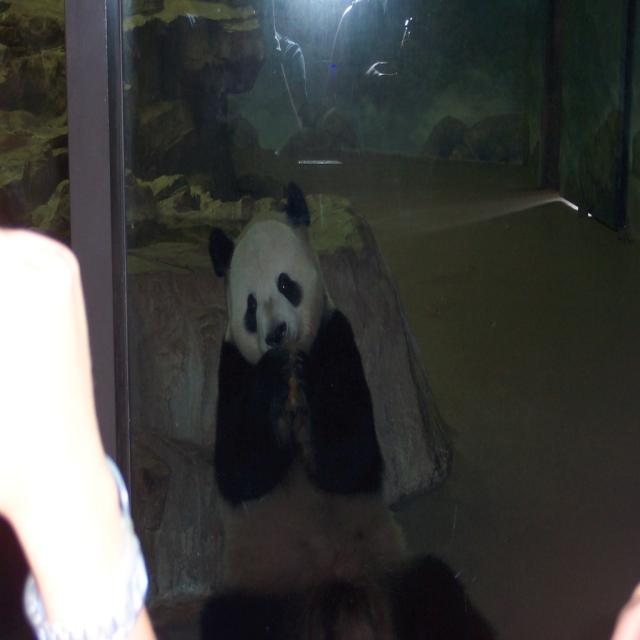panda: (214, 181, 386, 490)
